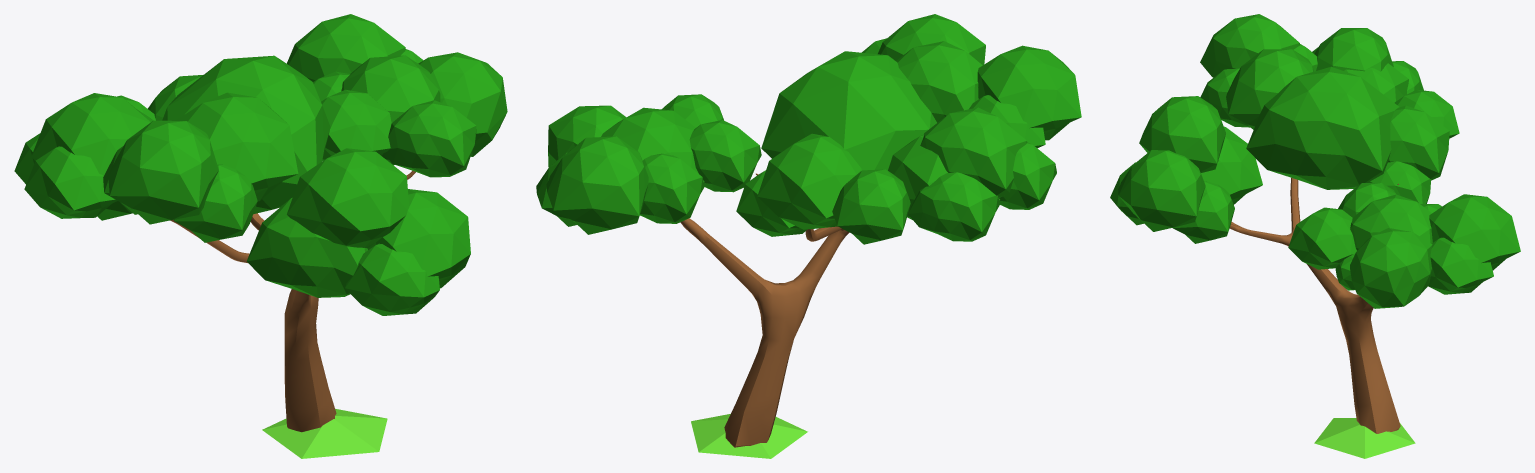
The picture shows the model from 3 angles, left to right: view 1: azimuth 30°, elevation 25°; view 2: azimuth 150°, elevation 25°; view 3: azimuth 270°, elevation 25°; orthographic projection. The views are drawn at different scales.
Visible parts, largest first — view 1: Icosphere.018_19, Icosphere.003_6, Icosphere.016_18, Icosphere.006_9, Icosphere.010_13, Cube_0, Icosphere.014_26, Icosphere_3, Icosphere.007_10, Icosphere.022_22, Icosphere.012_25, Icosphere.008_11 (+8 smaller); view 2: Icosphere.016_18, Cube_0, Icosphere.022_22, Icosphere.011_14, Icosphere.003_6, Icosphere_3, Icosphere.002_5, Icosphere.006_9, Icosphere.015_16, Icosphere.020_20, Icosphere.021_21, Icosphere.024_24 (+9 smaller); view 3: Icosphere.016_18, Cube_0, Icosphere.012_25, Icosphere.007_10, Icosphere.018_19, Icosphere.022_22, Icosphere.006_9, Icosphere.003_6, Icosphere.011_14, Icosphere.014_26, Icosphere.024_24, Icosphere_3 (+12 smaller).
Part boxes in pixels (<box>): Icosphere.018_19: <box>287,148,409,248</box>; Icosphere.003_6: <box>108,120,218,224</box>; Icosphere.016_18: <box>162,55,330,214</box>; Icosphere.006_9: <box>175,92,298,201</box>; Icosphere.010_13: <box>246,197,367,297</box>; Cube_0: <box>170,170,415,432</box>; Icosphere.014_26: <box>383,100,476,177</box>; Icosphere_3: <box>31,93,150,176</box>; Icosphere.007_10: <box>367,189,470,288</box>; Icosphere.022_22: <box>287,14,405,81</box>; Icosphere.012_25: <box>418,52,507,156</box>; Icosphere.008_11: <box>345,243,439,315</box>; Icosphere.016_18: <box>761,51,936,170</box>; Cube_0: <box>680,173,849,447</box>; Icosphere.022_22: <box>546,136,648,234</box>; Icosphere.011_14: <box>757,133,861,229</box>; Icosphere.003_6: <box>977,45,1081,140</box>; Icosphere_3: <box>920,107,1027,197</box>; Icosphere.002_5: <box>908,172,999,241</box>; Icosphere.006_9: <box>896,41,982,122</box>; Icosphere.015_16: <box>832,169,910,244</box>; Icosphere.020_20: <box>689,120,761,192</box>; Icosphere.021_21: <box>640,153,704,223</box>; Icosphere.024_24: <box>601,107,704,182</box>; Icosphere.016_18: <box>1246,66,1399,189</box>; Cube_0: <box>1229,178,1400,433</box>; Icosphere.012_25: <box>1350,228,1432,308</box>; Icosphere.007_10: <box>1118,150,1205,231</box>; Icosphere.018_19: <box>1139,96,1225,172</box>; Icosphere.022_22: <box>1429,194,1520,270</box>; Icosphere.006_9: <box>1226,49,1313,129</box>; Icosphere.003_6: <box>1200,14,1300,77</box>; Icosphere.011_14: <box>1388,105,1449,180</box>; Icosphere.014_26: <box>1288,207,1356,269</box>; Icosphere.024_24: <box>1350,194,1432,250</box>; Icosphere_3: <box>1314,28,1393,71</box>.
Bounding box in the file's own units: 4.5 × 3.69 × 4.04.
